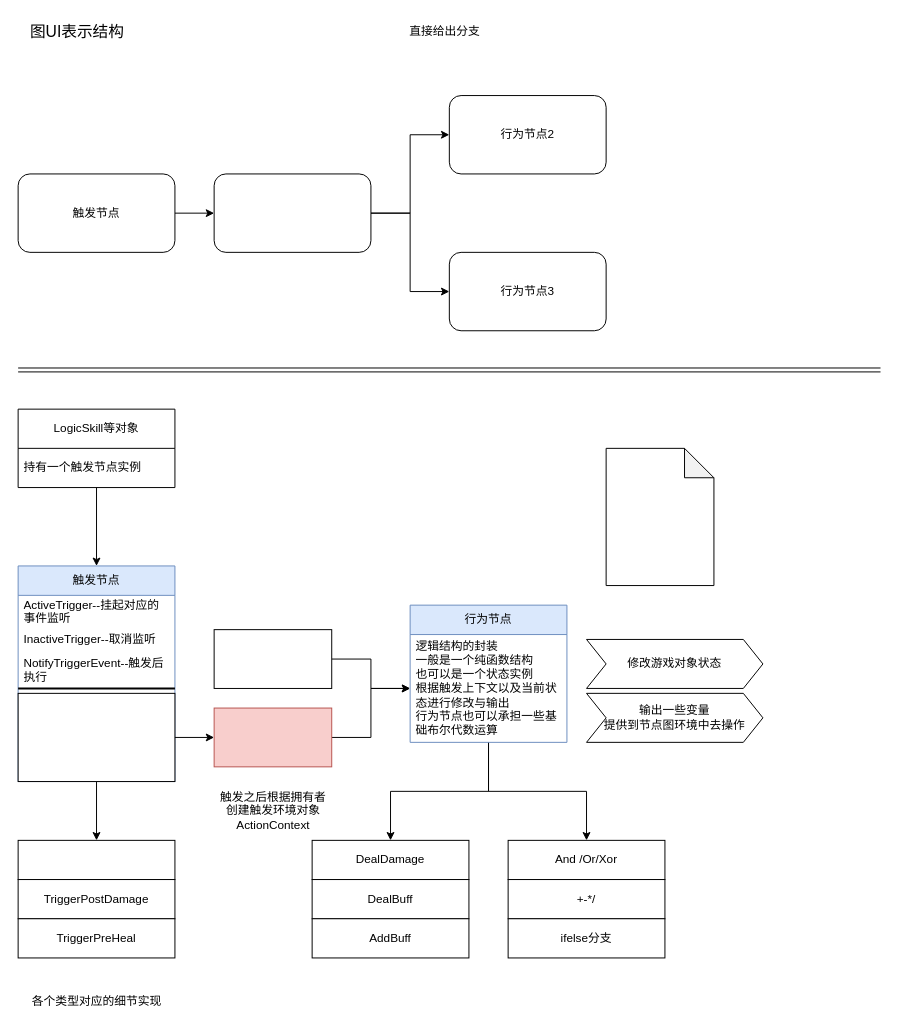
The diagram is 898 pixels wide and 1033 high, and some of its shapes have lost their labels. Each missing label, with the centre of its shape:
"ActionContext" belongs at (272,737).
"TriggerPreDamage" belongs at (96,859).
"封装触发类型 一般有挂起和取消 一个触发节点对应一个实例对象，当触发时，通知到该实例然后按顺序触发" belongs at (96,737).
"节点图中落地数据" belongs at (272,658).
"行为节点1" belongs at (292,212).
"这个行为节点的 切分粒度就是一个 很大的实践经验问题 后面会稍微记录 部分尝试结构" belongs at (659,516).
